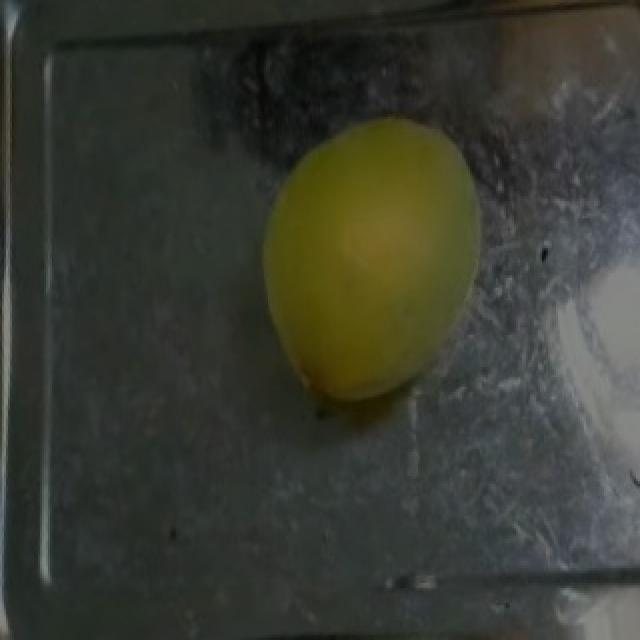fruit: (236, 79, 526, 434)
